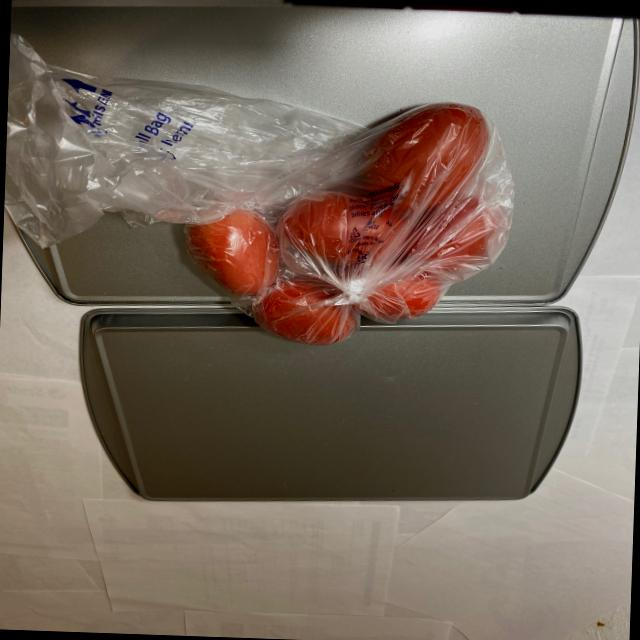tomato: (167, 90, 510, 352)
